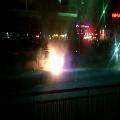fire: (45, 48, 63, 74)
